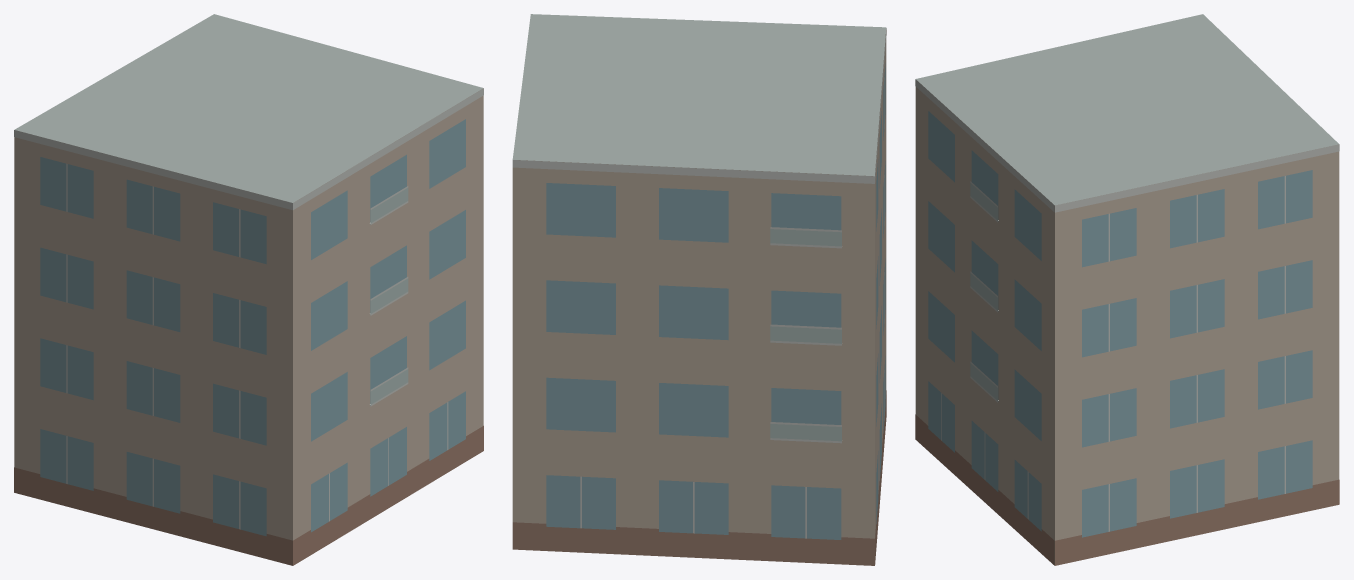
File: survey-upis-32532236.glb
3 views of the same model, side by side, from view 1: azimuth 30°, elevation 25°; view 2: azimuth 150°, elevation 25°; view 3: azimuth 270°, elevation 25° (orthographic). The views are drawn at different scales.
Visible parts, largest first — view 1: survey-upis-32532236.tmp; view 2: survey-upis-32532236.tmp; view 3: survey-upis-32532236.tmp.
Boxes of the visible parts, left/top/right/bottom form: survey-upis-32532236.tmp: left=14, top=14, right=483, bottom=565; survey-upis-32532236.tmp: left=512, top=14, right=886, bottom=565; survey-upis-32532236.tmp: left=915, top=14, right=1339, bottom=565.
Size of the model in its own units: 13.91 by 12.2 by 13.02.
